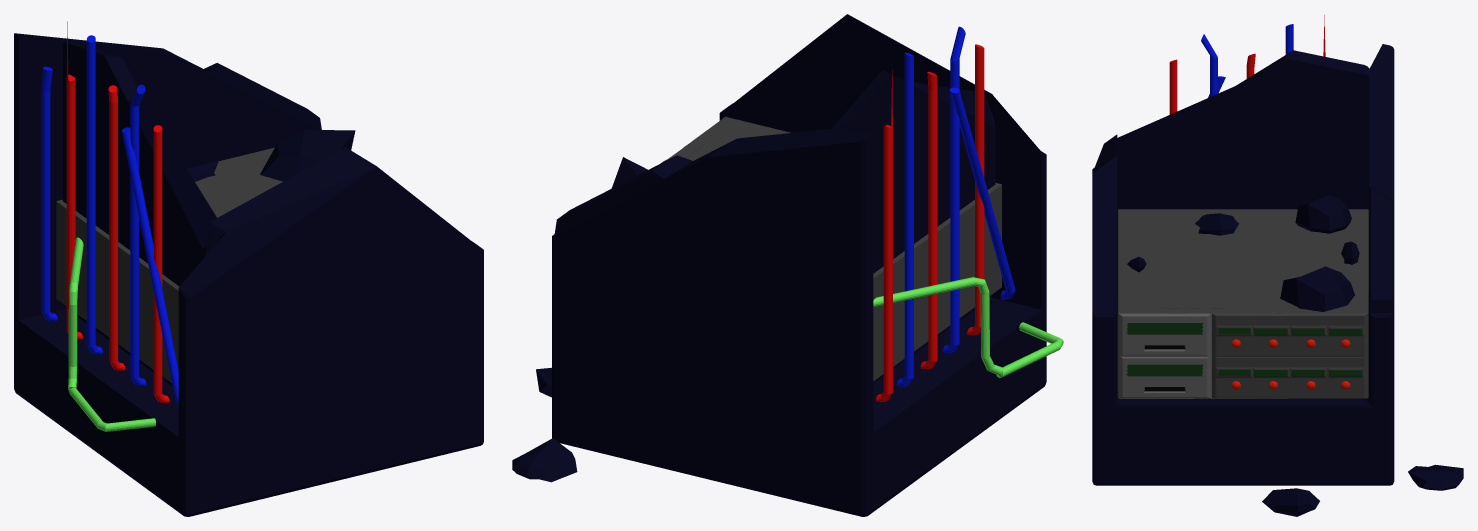
The model's file is BrokePCVar2.fbx.
The picture shows the model from 3 angles, left to right: view 1: azimuth 30°, elevation 25°; view 2: azimuth 150°, elevation 25°; view 3: azimuth 270°, elevation 25°; orthographic projection. The views are drawn at different scales.
Parts seen in each view (by area): view 1: Корпус, блок.001, блок, Цилиндр.002, Куб.004, Цилиндр.004, Цилиндр.003, Цилиндр.007, Цилиндр.006, Цилиндр.005, Цилиндр.008, Цилиндр.001; view 2: Корпус, блок.001, блок, Цилиндр.002, Цилиндр.004, Цилиндр.008, Цилиндр.003, Цилиндр.001, Цилиндр.005, Цилиндр.006, Куб.006; view 3: Корпус, блок.001, блок, Куб.004, Куб.003, Куб.005, Куб.006, Куб.001, Цилиндр.005, Цилиндр.004.
Boxes of the visible parts, left/top/right/bottom form: Корпус: left=14, top=33, right=483, bottom=516; блок.001: left=56, top=147, right=282, bottom=339; блок: left=56, top=249, right=178, bottom=382; Цилиндр.002: left=86, top=35, right=102, bottom=354; Куб.004: left=260, top=129, right=355, bottom=181; Цилиндр.004: left=130, top=84, right=146, bottom=385; Цилиндр.003: left=108, top=85, right=125, bottom=370; Цилиндр.007: left=41, top=66, right=57, bottom=320; Цилиндр.006: left=122, top=127, right=178, bottom=403; Цилиндр.005: left=153, top=125, right=169, bottom=402; Цилиндр.008: left=68, top=237, right=155, bottom=431; Цилиндр.001: left=66, top=21, right=82, bottom=339; Корпус: left=552, top=14, right=1046, bottom=516; блок.001: left=660, top=116, right=1001, bottom=328; блок: left=873, top=237, right=1001, bottom=380; Цилиндр.002: left=897, top=52, right=913, bottom=386; Цилиндр.004: left=942, top=26, right=965, bottom=353; Цилиндр.008: left=873, top=277, right=1063, bottom=377; Цилиндр.003: left=920, top=71, right=937, bottom=369; Цилиндр.001: left=876, top=70, right=892, bottom=402; Цилиндр.005: left=967, top=44, right=984, bottom=335; Цилиндр.006: left=949, top=87, right=1015, bottom=299; Куб.006: left=512, top=438, right=577, bottom=482; Корпус: left=1092, top=44, right=1394, bottom=485; блок.001: left=1117, top=209, right=1368, bottom=357; блок: left=1117, top=355, right=1368, bottom=398; Куб.004: left=1280, top=266, right=1355, bottom=311; Куб.003: left=1295, top=195, right=1351, bottom=233; Куб.005: left=1262, top=488, right=1319, bottom=516; Куб.006: left=1408, top=464, right=1463, bottom=490; Куб.001: left=1195, top=213, right=1238, bottom=235; Цилиндр.005: left=1169, top=59, right=1177, bottom=114; Цилиндр.004: left=1201, top=34, right=1217, bottom=96.
Size of the model in its own units: 279 by 261 by 246.
